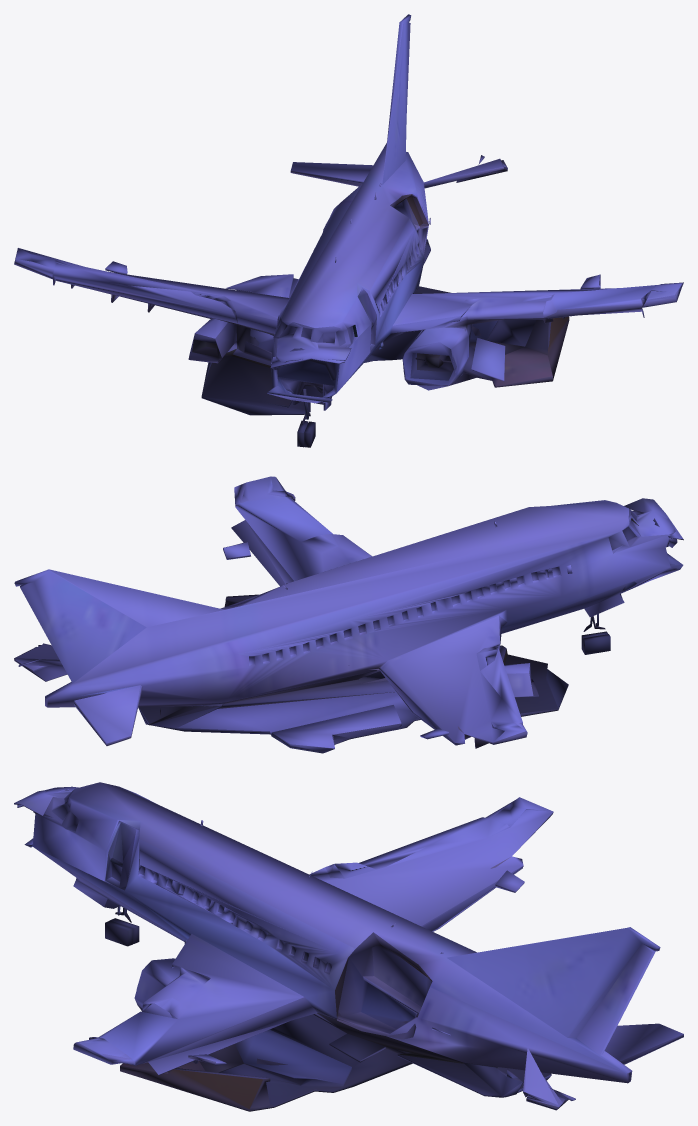
File: model.progressive.glb
The picture shows the model from 3 angles, top to bottom: view 1: azimuth 30°, elevation 25°; view 2: azimuth 150°, elevation 25°; view 3: azimuth 270°, elevation 25°; orthographic projection. The views are drawn at different scales.
Visible parts, largest first — view 1: material; view 2: material; view 3: material.
Boxes of the visible parts, x1,y1,x2,y2 form: material: (14, 14, 683, 447); material: (14, 476, 683, 753); material: (14, 782, 683, 1111).
Size of the model in its own units: 1.82 by 0.6034 by 1.9.
1 material, 1 textured.
